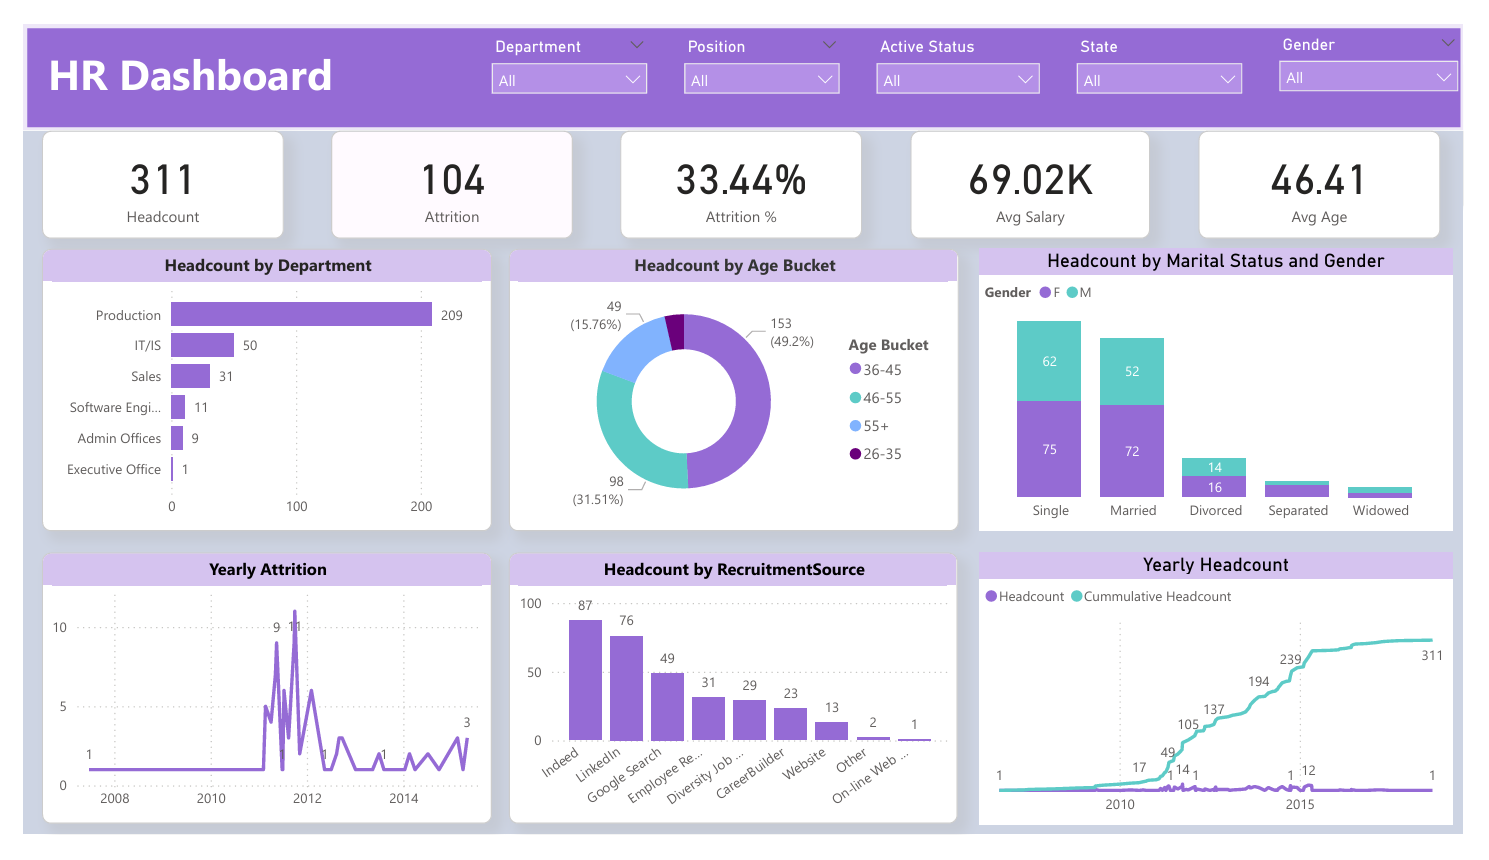

The dashboard page shown, as its layout file describes it:
{"tool":"powerbi","page":{"name":"HR Dashboard","canvas":[1280,720],"ordinal":0},"visuals":[{"type":"shape","box":[0,0,1280,93.8],"z":0},{"type":"card","fields":{"Values":["Measure.Headcount"]},"box":[16.2,93.8,215,96.2],"z":1000},{"type":"card","fields":{"Values":["Measure.Attrition"]},"box":[272.5,93.8,215,96.2],"z":2000},{"type":"card","fields":{"Values":["Measure.Attrition %"]},"box":[530,93.8,215,96.2],"z":3000},{"type":"card","fields":{"Values":["Measure.Avg Salary"]},"box":[787.5,93.8,213.8,96.2],"z":4000},{"type":"card","fields":{"Values":["Measure.Avg Age"]},"box":[1043.8,93.8,215,96.2],"z":5000},{"type":"clusteredBarChart","fields":{"Y":["Measure.Headcount"],"Category":["HRDataset_v14.Department"]},"box":[16,198.8,400,251.5],"z":6000},{"type":"donutChart","fields":{"Category":["HRDataset_v14.Age Bucket"],"Y":["Measure.Headcount"]},"box":[431.2,198.8,400,251.2],"z":7000},{"type":"lineChart","title":"Yearly Attrition","fields":{"Y":["Measure.Attrition"],"Category":["HRDataset_v14.DateofHire"]},"box":[16,468.7,400,241.7],"z":8000},{"type":"columnChart","fields":{"Y":["Measure.Headcount"],"Category":["HRDataset_v14.RecruitmentSource"]},"box":[431.2,468.8,398.8,241.2],"z":9000},{"type":"slicer","fields":{"Values":["HRDataset_v14.Department"]},"box":[405.7,5.9,158,68],"z":10000},{"type":"slicer","fields":{"Values":["HRDataset_v14.Position"]},"box":[576.8,6.4,158.3,67.5],"z":11000},{"type":"slicer","fields":{"Values":["HRDataset_v14.EmploymentStatus"]},"box":[748.2,6.4,164.4,67.5],"z":12000},{"type":"slicer","fields":{"Values":["HRDataset_v14.State"]},"box":[925.7,6.4,166.9,69.9],"z":13000},{"type":"slicer","fields":{"Values":["HRDataset_v14.Gender"]},"box":[1105.6,3.9,179.1,72.4],"z":14000},{"type":"lineChart","title":"Yearly Headcount","fields":{"Category":["HRDataset_v14.DateofHire"],"Y":["Measure.Headcount","Measure.Cummulative Headcount"]},"box":[848.8,468.8,421.2,242.5],"z":15000},{"type":"columnChart","title":"Headcount by Marital Status and Gender","fields":{"Category":["HRDataset_v14.MaritalDesc"],"Y":["Measure.Headcount"],"Series":["HRDataset_v14.Gender"]},"box":[848.8,198.8,421.2,251.2],"z":16000},{"type":"textbox","box":[16.2,12.5,371.2,70],"z":17000}]}

Visuals, with their boxes in screenshot pixels (x1, y1, x2, y2), scaled from the page's 1280x720 canvas onto the 1489x860 screenshot:
shape: left=0, top=0, right=1488, bottom=112
card - Measure.Headcount: left=19, top=112, right=269, bottom=227
card - Measure.Attrition: left=317, top=112, right=567, bottom=227
card - Measure.Attrition %: left=617, top=112, right=867, bottom=227
card - Measure.Avg Salary: left=916, top=112, right=1165, bottom=227
card - Measure.Avg Age: left=1214, top=112, right=1464, bottom=227
clusteredBarChart - Measure.Headcount x HRDataset_v14.Department: left=19, top=237, right=484, bottom=538
donutChart - HRDataset_v14.Age Bucket x Measure.Headcount: left=502, top=237, right=967, bottom=538
"Yearly Attrition" lineChart: left=19, top=560, right=484, bottom=849
columnChart - Measure.Headcount x HRDataset_v14.RecruitmentSource: left=502, top=560, right=966, bottom=848
slicer - HRDataset_v14.Department: left=472, top=7, right=656, bottom=88
slicer - HRDataset_v14.Position: left=671, top=8, right=855, bottom=88
slicer - HRDataset_v14.EmploymentStatus: left=870, top=8, right=1062, bottom=88
slicer - HRDataset_v14.State: left=1077, top=8, right=1271, bottom=91
slicer - HRDataset_v14.Gender: left=1286, top=5, right=1488, bottom=91
"Yearly Headcount" lineChart: left=987, top=560, right=1477, bottom=850
"Headcount by Marital Status and Gender" columnChart: left=987, top=237, right=1477, bottom=538
textbox: left=19, top=15, right=451, bottom=99
